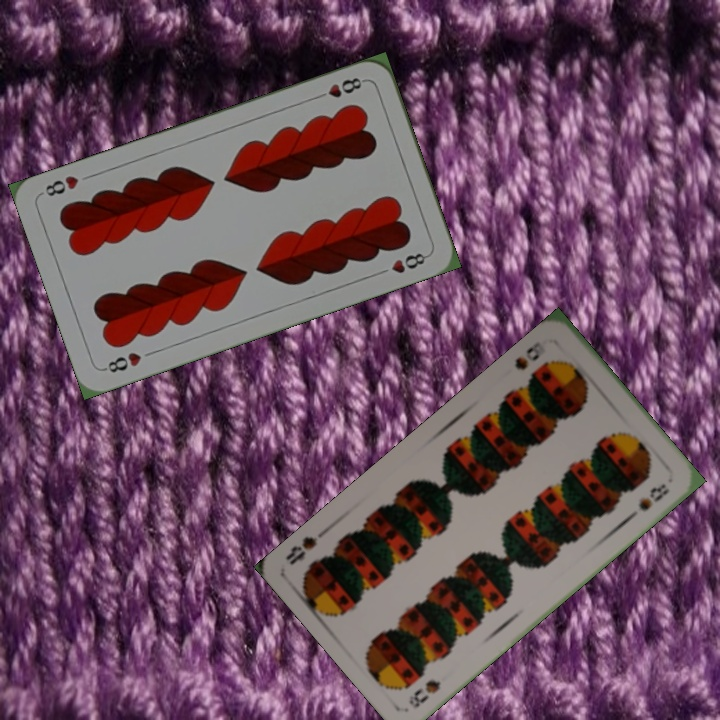H8: (311, 73, 368, 102), (99, 348, 144, 376)
S8: (404, 676, 444, 711), (510, 343, 542, 373)
